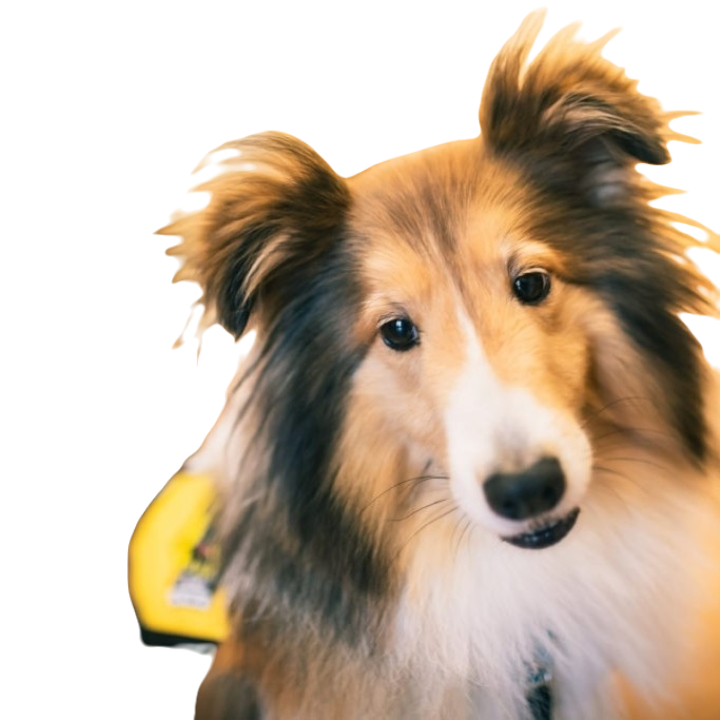Dog: (153, 2, 717, 719)
